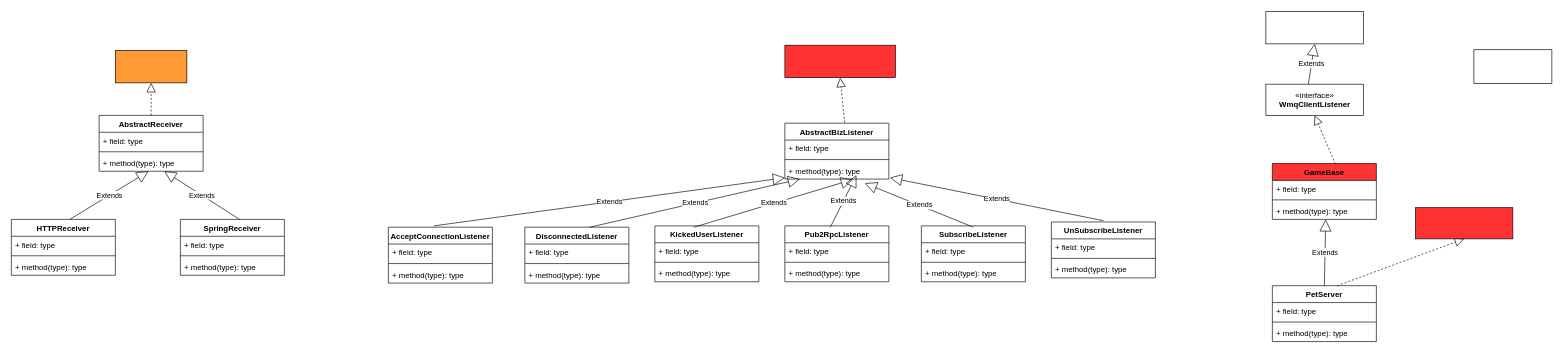
Some shapes in this 1563 by 355 pixel diagram are drawn without their labels. The shapes that lost their labels are listed below. From the top down, each one's centre as x and y in pixels, then its label:
(x=1314, y=27): «interface» DeprecatedWMQListener
(x=151, y=66): «interface» IReceiver
(x=839, y=61): «interface» IReceiver.ReceiverListener
(x=1512, y=66): «interface» WmqClientManager
(x=1464, y=223): «interface» InitializingBean
